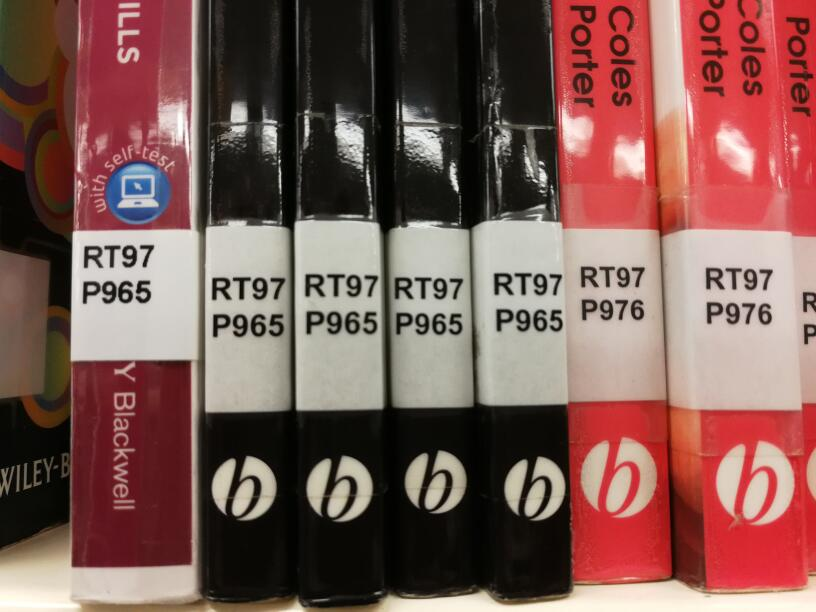booklabel: (300, 270, 382, 338), (208, 273, 288, 340), (701, 262, 778, 330), (487, 269, 565, 336), (391, 273, 467, 340), (79, 241, 156, 307), (577, 262, 650, 325)
